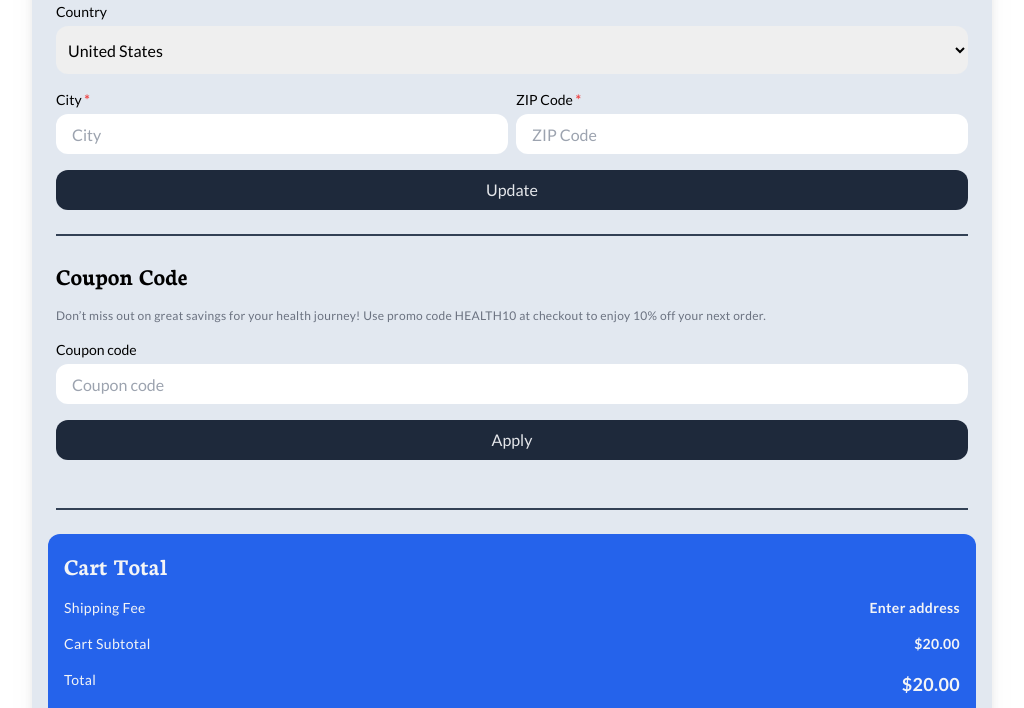
Test: CartPage coupon › applies 10% for the advertised HEALTH10 code, case-insensitively
(page scrolled)
Type "health10" into the field with placeholder "Coupon code" at (512, 384), box [56, 364, 968, 404]
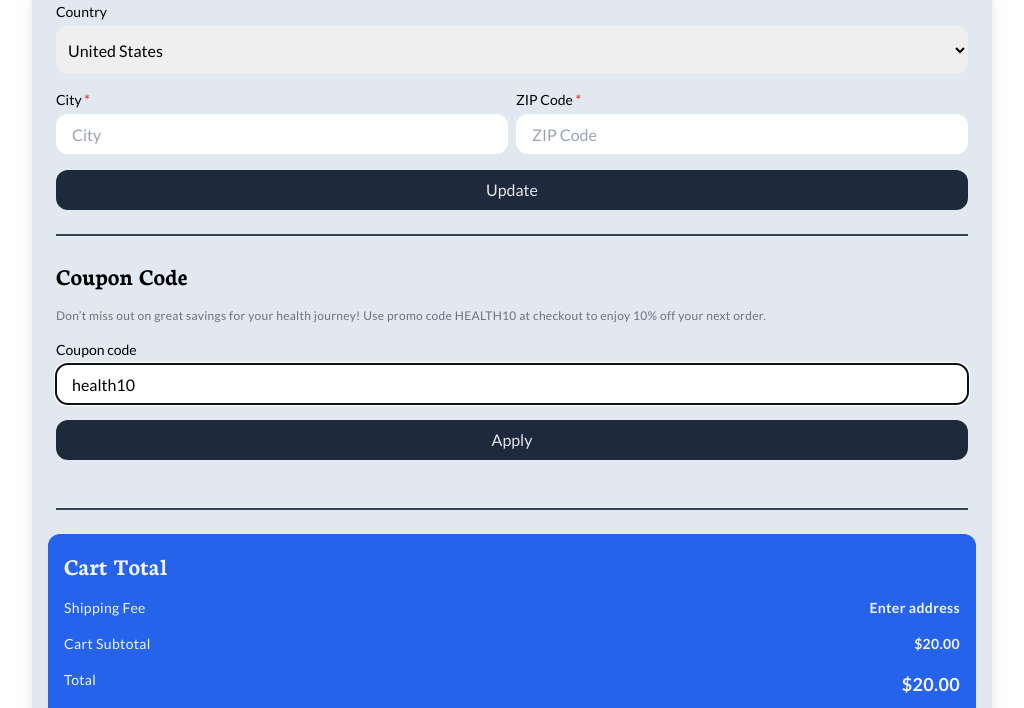
Click the button "Apply" at (512, 440), box [56, 420, 968, 460]
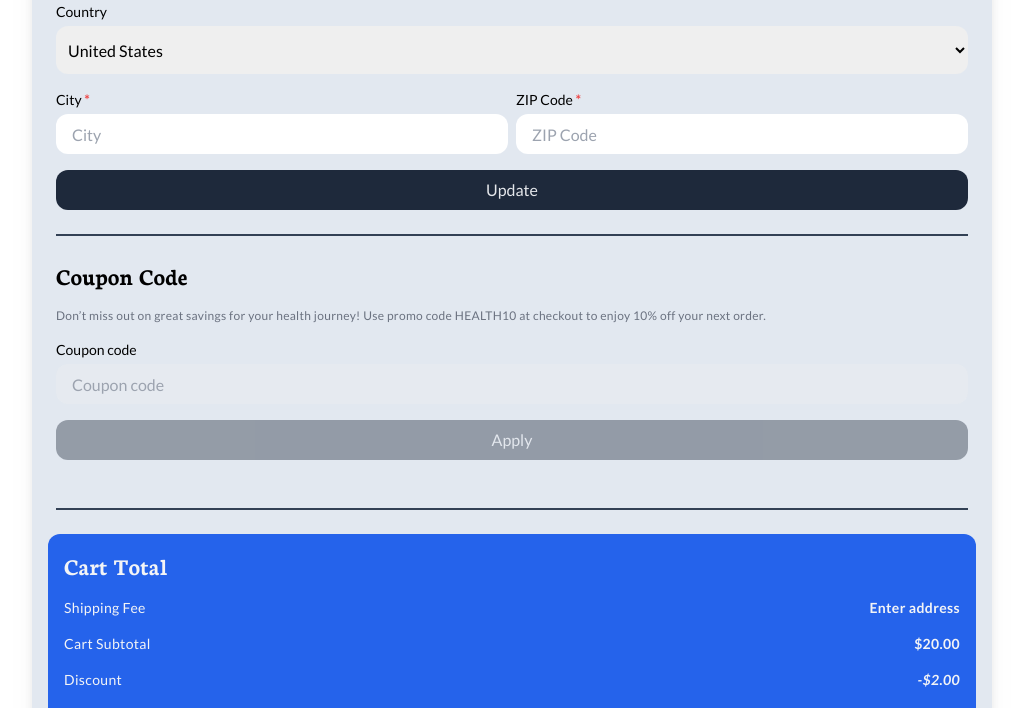
Now the text "-$2.00" is shown, box [918, 670, 960, 690]
